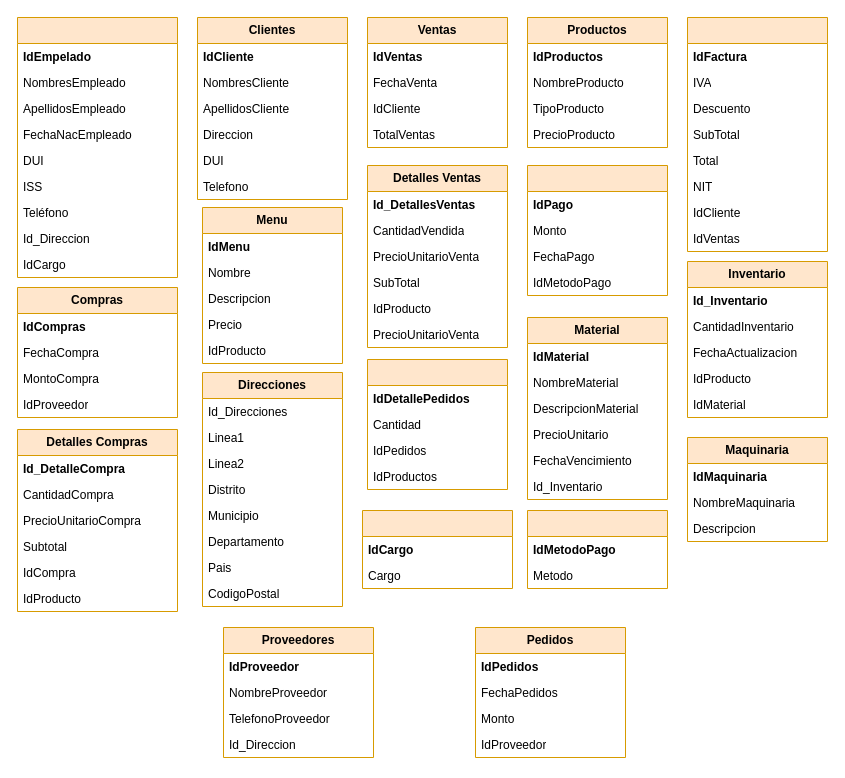
Some shapes in this 845 by 778 pixel diagram are drawn without their labels. Here are the shapes that lost their labels. From the top down, the box of each, then its label:
(16, 16, 178, 278): Empleados
(686, 16, 828, 252): Facturas
(526, 164, 668, 296): Pagos (Ventas)
(366, 358, 508, 490): Detalles Pedidos
(362, 510, 512, 588): Cargos
(526, 510, 668, 588): Metodos de Pago
